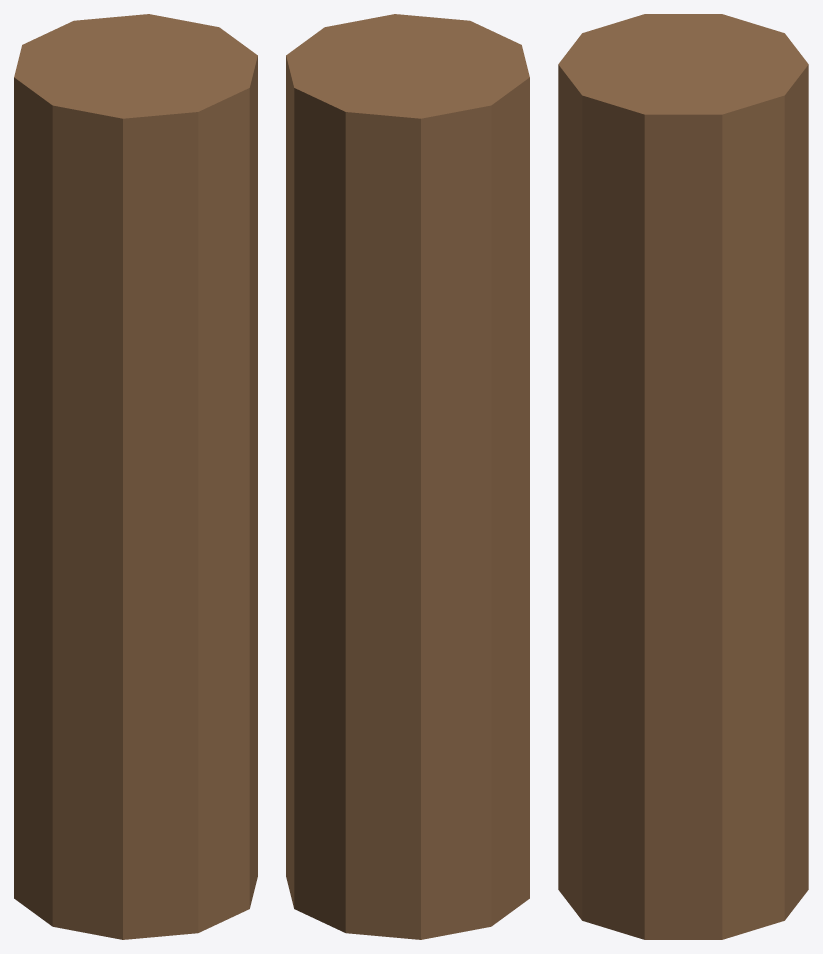
File: SM_Fallen_Log.fbx
3 renders of one model, left to right at view 1: azimuth 30°, elevation 25°; view 2: azimuth 150°, elevation 25°; view 3: azimuth 270°, elevation 25°, orthographic.
Parts seen in each view (by area): view 1: SM_Fallen_Log; view 2: SM_Fallen_Log; view 3: SM_Fallen_Log.
Boxes of the visible parts, x1,y1,x2,y2 form: SM_Fallen_Log: (14,14,257,939); SM_Fallen_Log: (286,14,529,939); SM_Fallen_Log: (558,14,808,939).
Size of the model in its own units: 0.2092 by 0.8 by 0.22.
